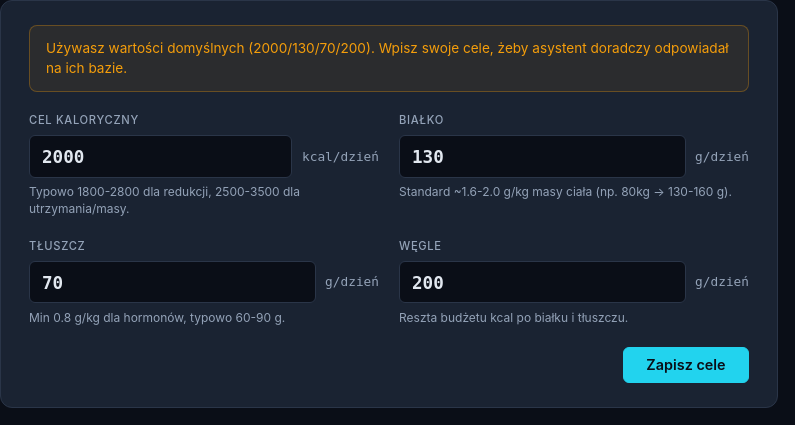
Test: ProfileTargetsForm › PUT 400 shows server error
Check: the number field showing "2000" is shown, box [29,135,292,178]
Step 1. Click the button "Zapisz cele" → (686, 365), box [623,346,749,383]
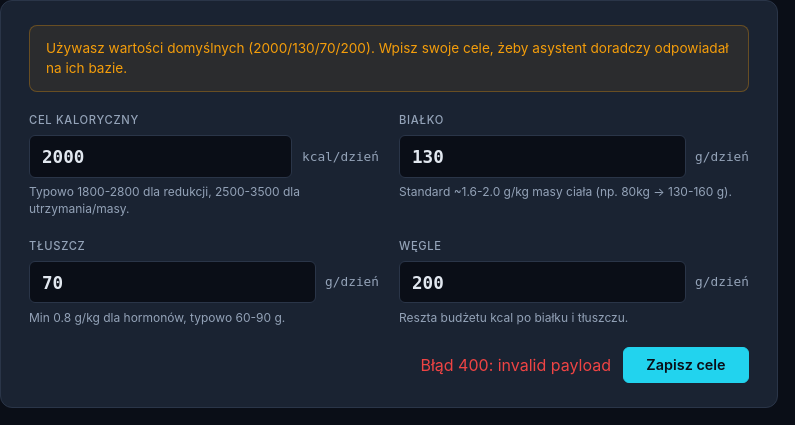
Check: the text "Błąd 400: invalid payload" is shown, box [420,353,611,377]
